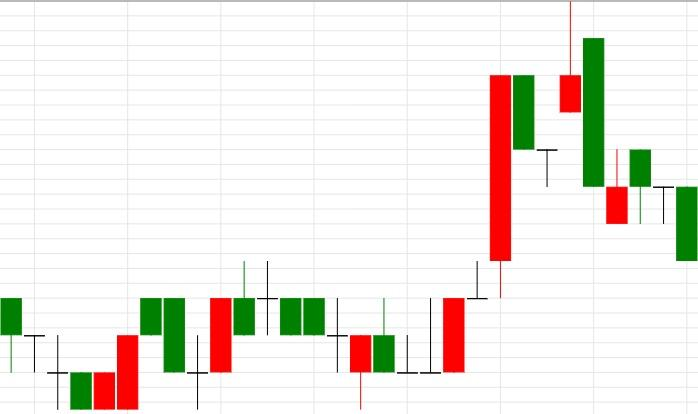shooting_star_fall: (349, 0, 582, 410)
